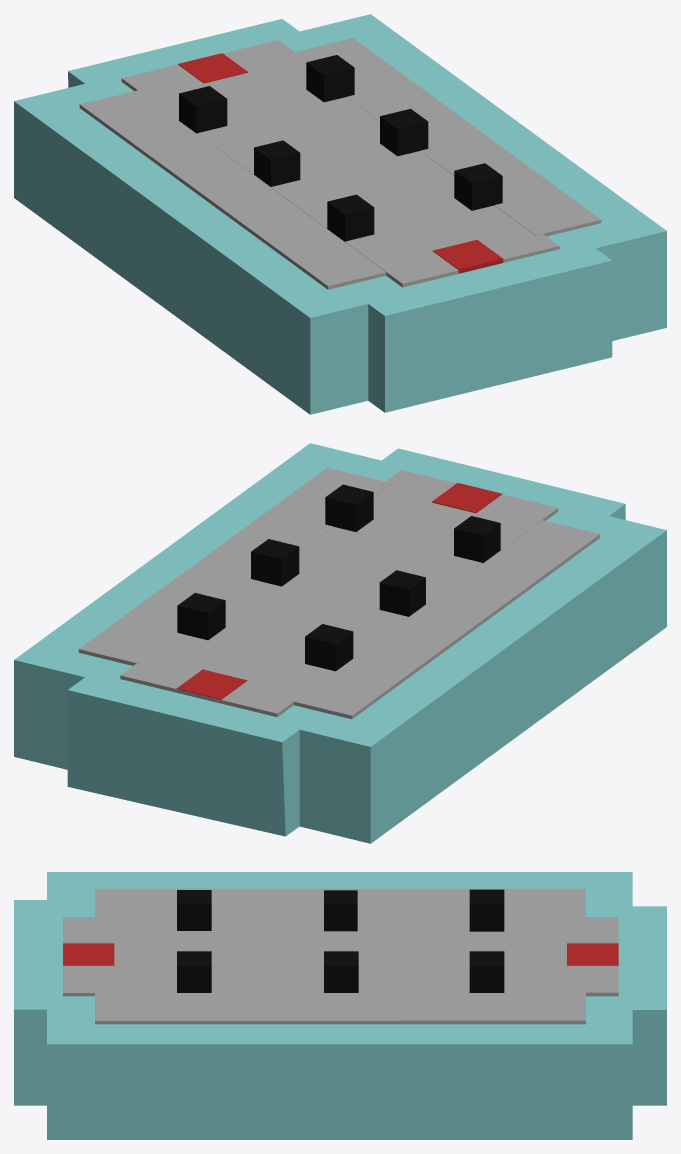
Rendered from Boss_Room_FRScale.fbx.
3 renders of one model, top to bottom at view 1: azimuth 30°, elevation 25°; view 2: azimuth 150°, elevation 25°; view 3: azimuth 270°, elevation 25°, orthographic.
Visible parts, largest first — view 1: Ice52, Floor93, Ice50, Ice51, Floor95, Floor94, Ice53, Column55, Column56, Column57, Column58, Column54 (+3 smaller); view 2: Ice52, Floor93, Ice53, Ice51, Floor95, Floor94, Ice50, Column55, Column56, Column58, Column57, Column54 (+3 smaller); view 3: Ice51, Floor93, Floor94, Ice50, Floor95, Ice52, Ice53, Column58, Column57, Column55, Column56, Column54 (+3 smaller).
Boxes of the visible parts, x1,y1,x2,y2 form: Ice52: (14,87,368,414); Floor93: (121,40,559,287); Ice50: (72,33,612,412); Ice51: (297,14,666,340); Floor95: (79,90,386,289); Floor94: (288,38,601,236); Ice53: (68,19,301,87); Column55: (454,163,502,210); Column56: (380,108,428,156); Column57: (306,55,354,102); Column58: (179,86,227,133); Column54: (327,194,374,241); Ice52: (312,516,666,843); Floor93: (120,470,558,717); Ice53: (67,675,301,836); Ice51: (14,443,386,769); Floor95: (294,520,600,719); Floor94: (78,467,392,665); Ice50: (86,448,625,829); Column55: (325,484,373,531); Column56: (251,539,299,586); Column58: (305,624,353,671); Column57: (177,593,225,640); Column54: (454,516,500,562); Ice51: (47,1007,632,1139); Floor93: (63,917,618,996); Floor94: (95,989,585,1024); Ice50: (14,900,632,1105); Floor95: (95,888,585,916); Ice52: (47,872,632,899); Ice53: (627,906,666,1105); Column58: (469,889,504,931); Column57: (469,951,504,992); Column55: (177,951,211,992); Column56: (324,951,358,992); Column54: (177,890,211,930).
Size of the model in its own units: 40.11 by 13.74 by 64.3.
